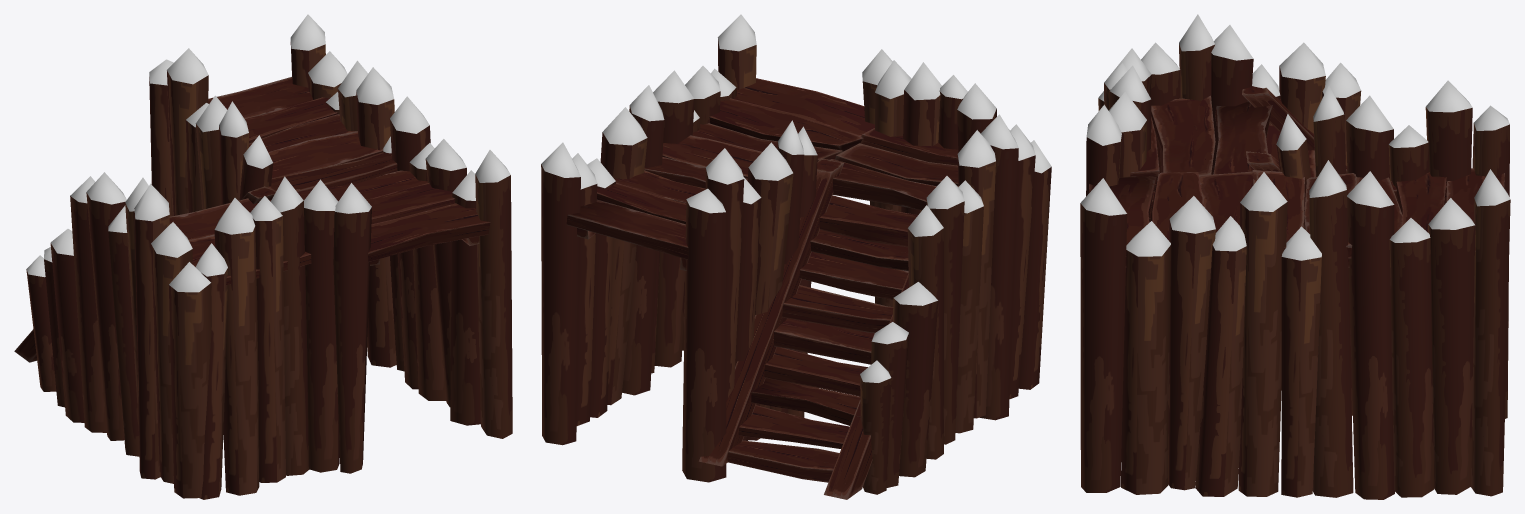
The model's file is SM_PROP_wall_wood_stairs_01.fbx.
The picture shows the model from 3 angles, left to right: view 1: azimuth 30°, elevation 25°; view 2: azimuth 150°, elevation 25°; view 3: azimuth 270°, elevation 25°; orthographic projection. The views are drawn at different scales.
Visible parts, largest first — view 1: SM_PROP_wall_wood_stairs_01; view 2: SM_PROP_wall_wood_stairs_01; view 3: SM_PROP_wall_wood_stairs_01.
Part boxes in pixels (x1=…): SM_PROP_wall_wood_stairs_01: x1=14, y1=14, x2=512, y2=499; SM_PROP_wall_wood_stairs_01: x1=541, y1=14, x2=1051, y2=499; SM_PROP_wall_wood_stairs_01: x1=1080, y1=14, x2=1510, y2=499.
Bounding box in the file's own units: 617 × 541 × 627.
